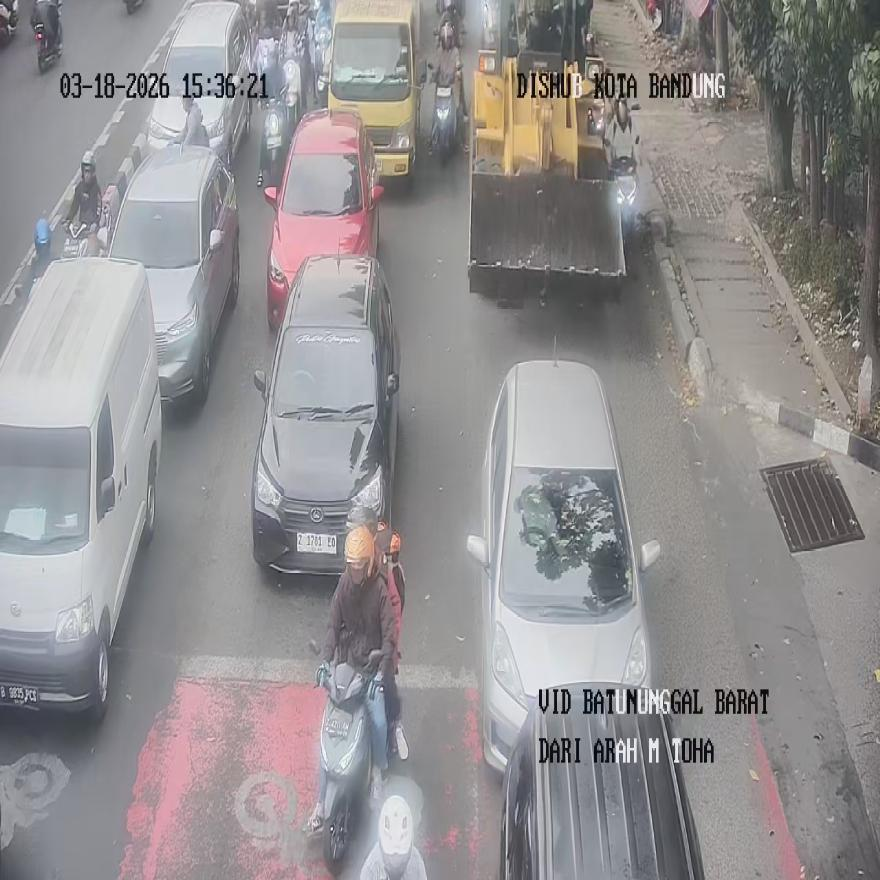Mobil: (466, 360, 659, 772), (0, 257, 162, 721), (250, 252, 399, 574), (497, 683, 704, 878), (105, 144, 239, 405), (264, 106, 384, 330), (145, 1, 251, 171), (325, 0, 423, 178)
Motor: (310, 646, 385, 872), (360, 792, 428, 879), (258, 96, 291, 190), (607, 148, 638, 242), (429, 78, 461, 160), (312, 2, 334, 99), (33, 1, 63, 72), (26, 218, 51, 300), (62, 220, 102, 258), (0, 0, 19, 43), (646, 0, 663, 32), (124, 0, 142, 13)
